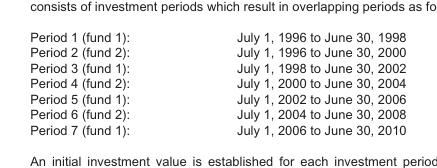table: (29, 29, 405, 136)
table column: (182, 29, 405, 136), (29, 29, 182, 136)
table column header: (29, 29, 405, 44)
table row: (29, 59, 405, 75), (29, 90, 405, 106), (29, 29, 405, 44), (29, 44, 405, 59), (29, 75, 405, 90), (29, 106, 405, 121), (29, 121, 405, 136)
